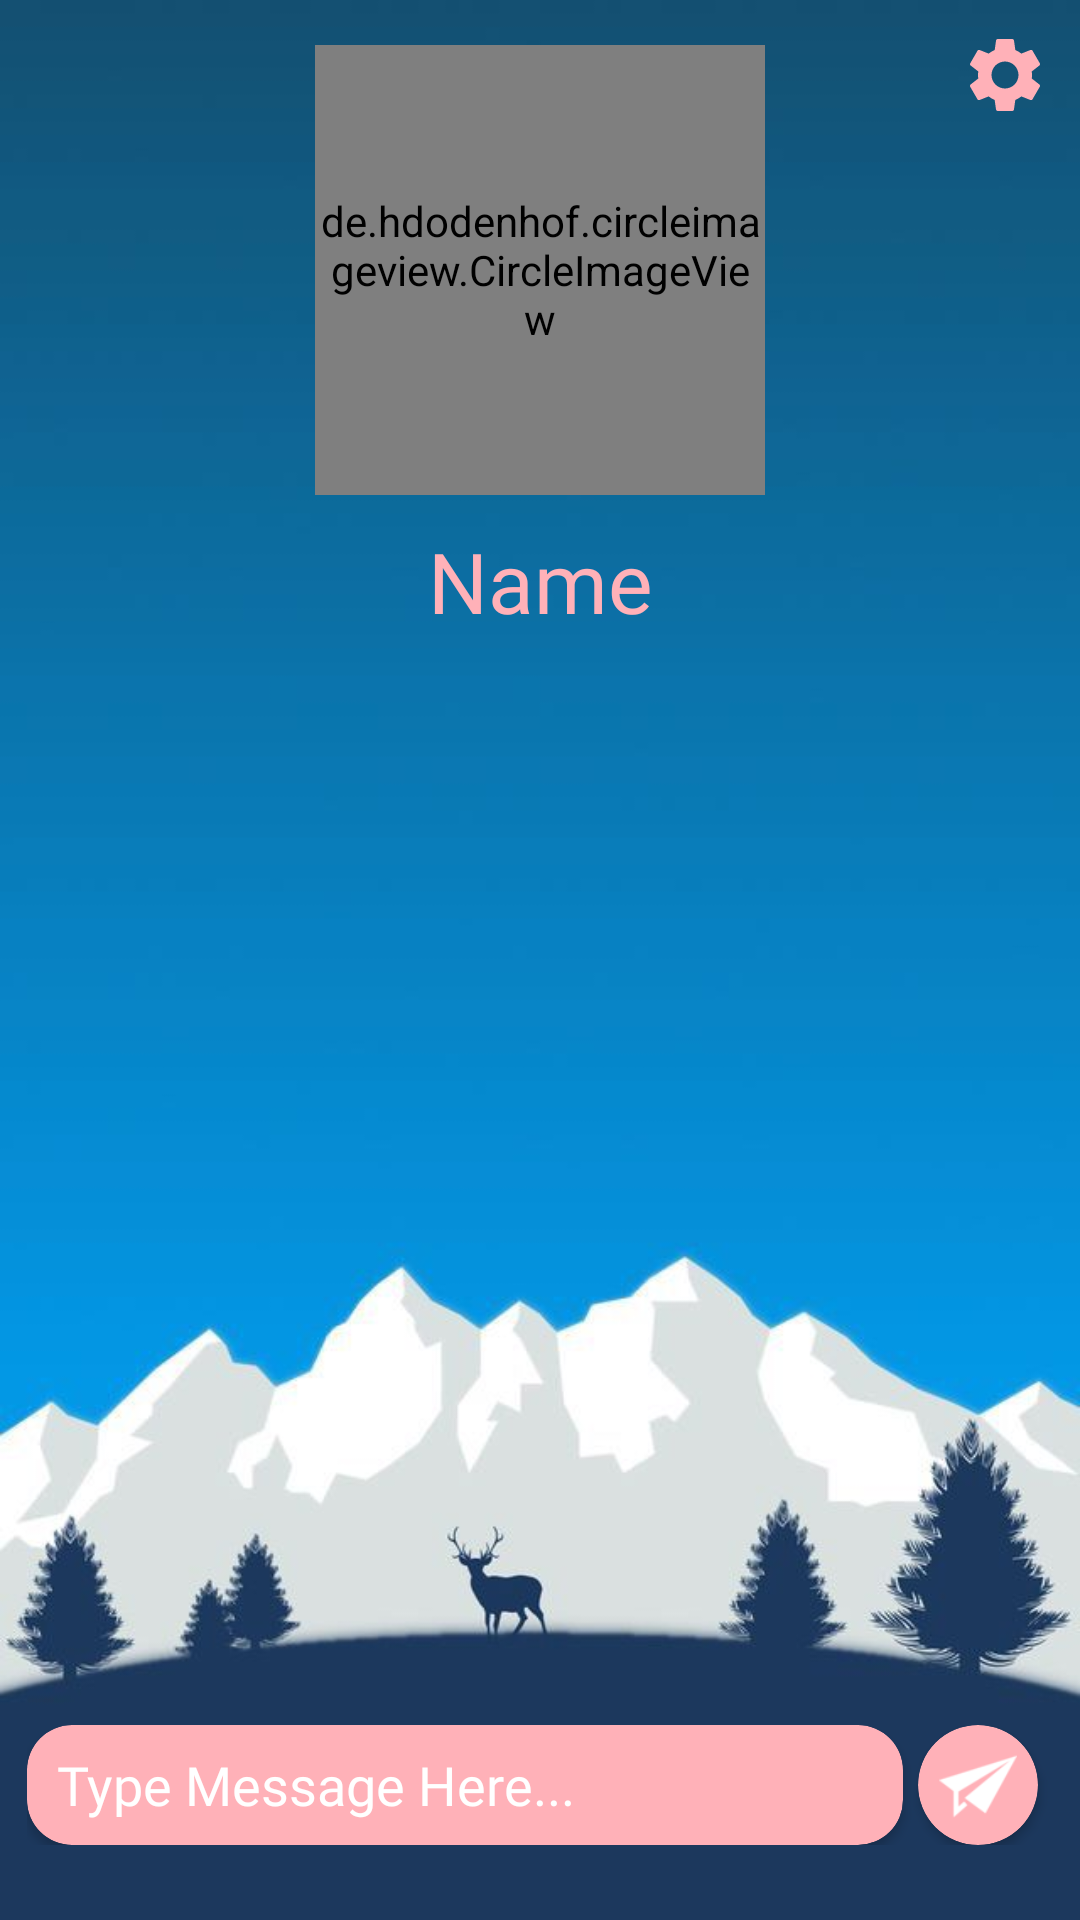

Icons on this 1080×1920 Android screen, each with the point to tap as point (x, y):
send: point (978, 1785)
setting: point (1005, 75)
